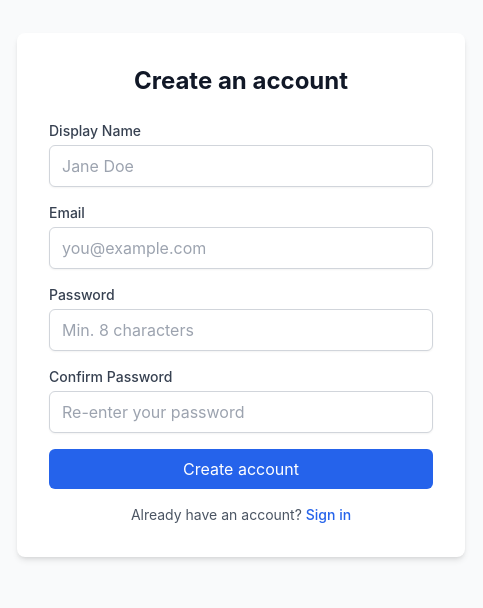
Test: RegisterPage › should display server error on API failure
Type "Existing User" into the field labelled "Display Name" at (241, 166), box [49, 145, 433, 187]
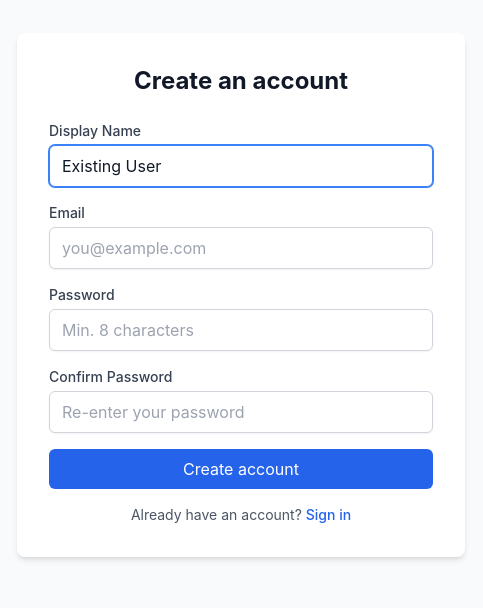
Type "existing@example.com" into the field labelled "Email" at (241, 248), box [49, 227, 433, 269]
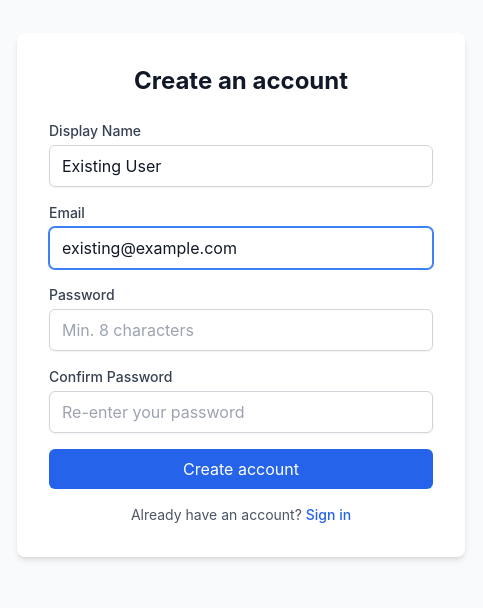
Type "password123" into the password field labelled "Password" at (241, 330), box [49, 309, 433, 351]
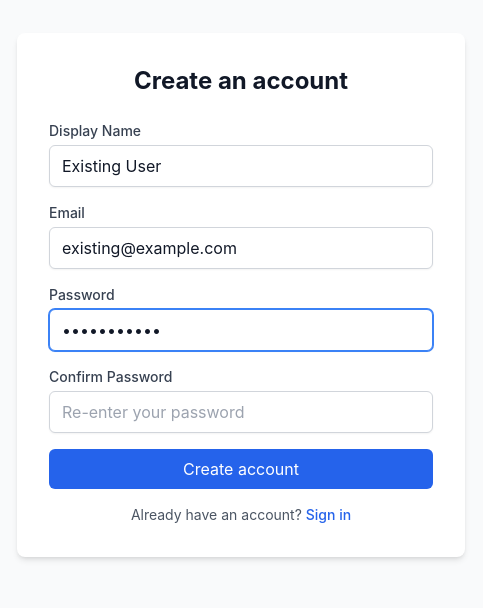
Type "password123" into the password field labelled "Confirm Password" at (241, 412), box [49, 391, 433, 433]
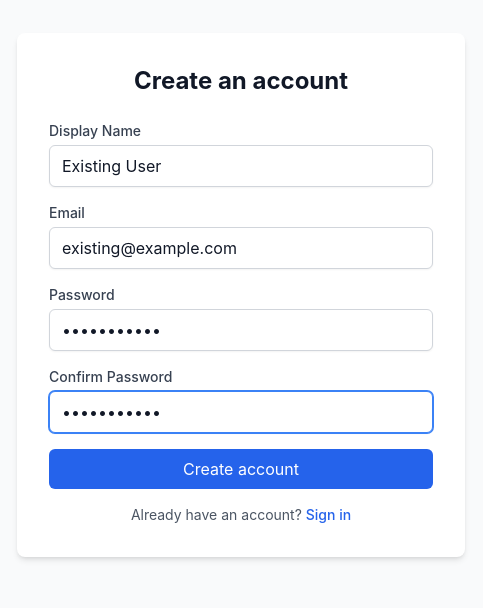
Click the button "Create account" at (241, 469), box [49, 449, 433, 489]
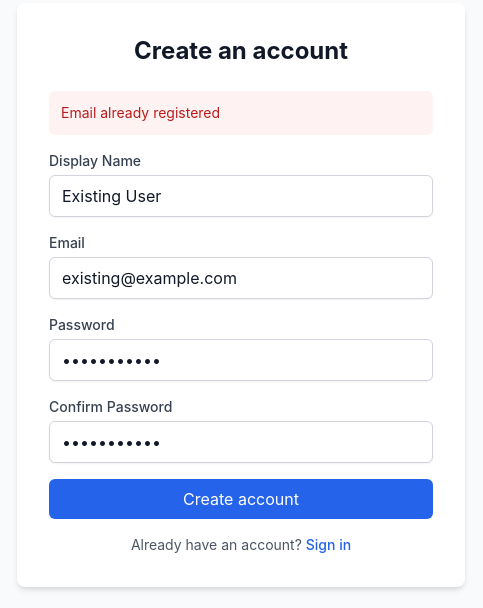
Check: the message reads "Email already registered", box [61, 104, 220, 121]
